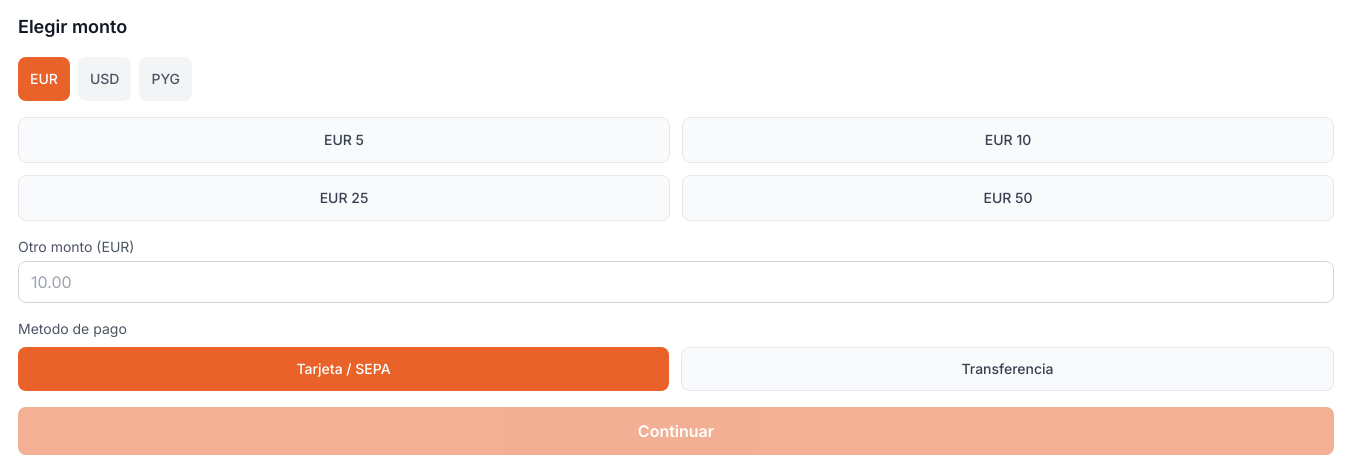
Test: DonationForm — amount step › advances to details step when valid amount is entered
Step 1. Type "10" into the number field → [676, 282], box [18,261,1334,303]
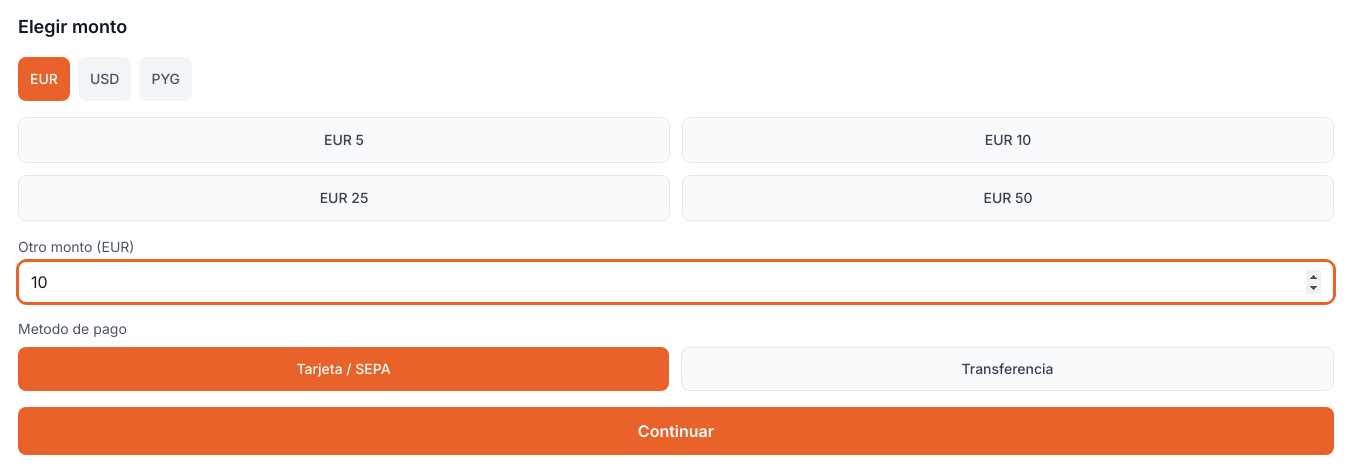
Step 2. Click the button "Continuar" → [676, 431], box [18,407,1334,455]
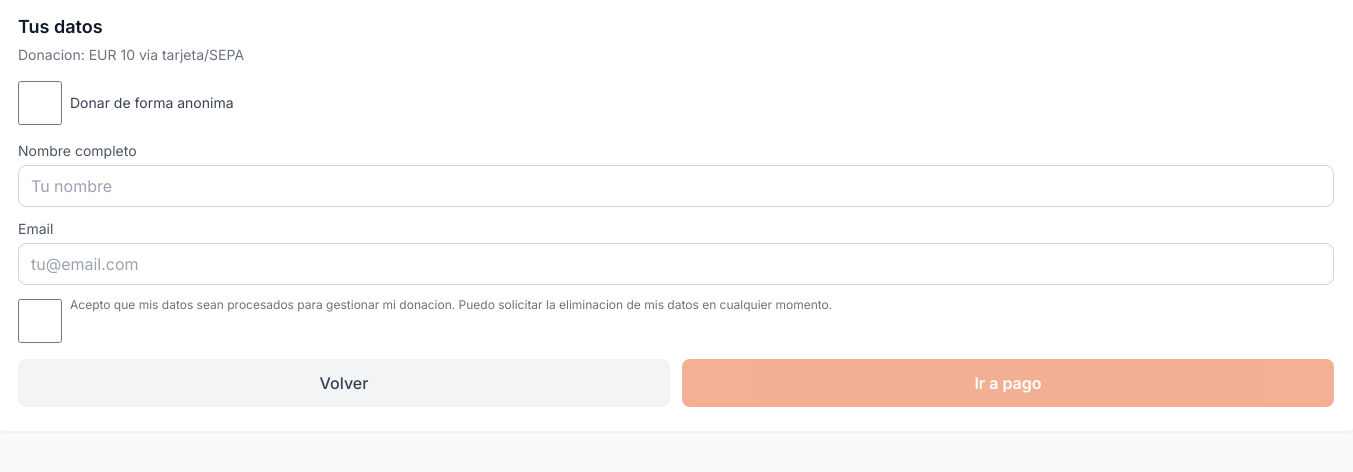
Check: the heading "Tus datos" is shown, box [18,16,103,37]
